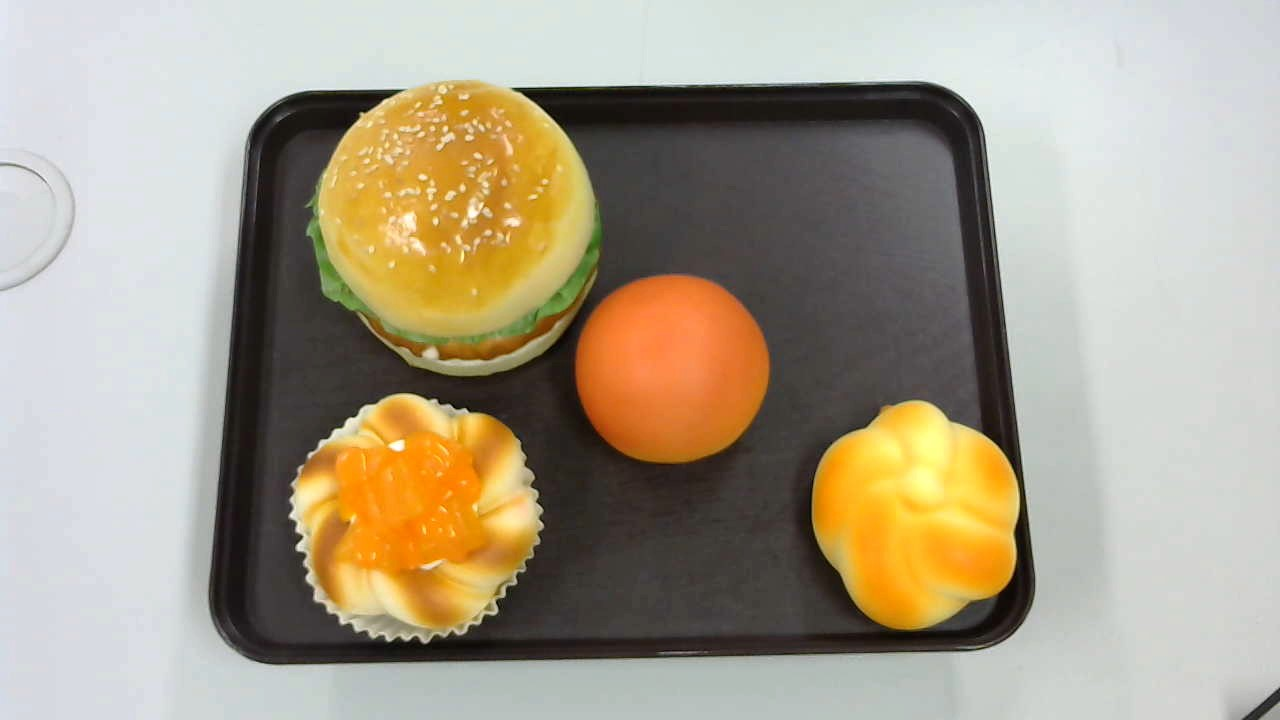bun: (575, 274, 769, 463)
hamburger: (306, 79, 603, 378)
mango tart: (289, 392, 546, 644)
twist bread: (807, 399, 1024, 630)
